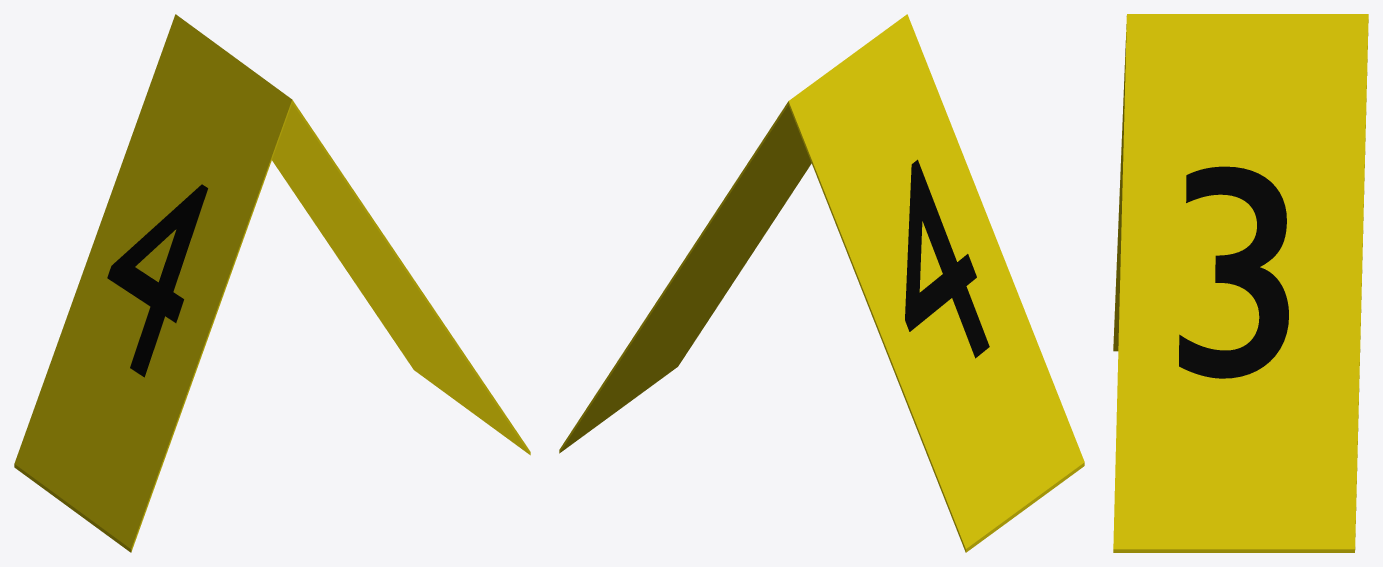
Rendered from stobok_3.fbx.
3 renders of one model, left to right at view 1: azimuth 30°, elevation 25°; view 2: azimuth 150°, elevation 25°; view 3: azimuth 270°, elevation 25°, orthographic. The views are drawn at different scales.
Visible parts, largest first — view 1: Cube, Text.002; view 2: Cube, Text.002; view 3: Cube, Text.001.
Boxes of the visible parts, x1,y1,x2,y2 form: Cube: [14, 14, 530, 552]; Text.002: [107, 184, 207, 377]; Cube: [559, 14, 1084, 552]; Text.002: [905, 159, 989, 358]; Cube: [1113, 14, 1368, 552]; Text.001: [1179, 166, 1288, 378].
Bounding box in the file's own units: 395 × 385 × 211.
